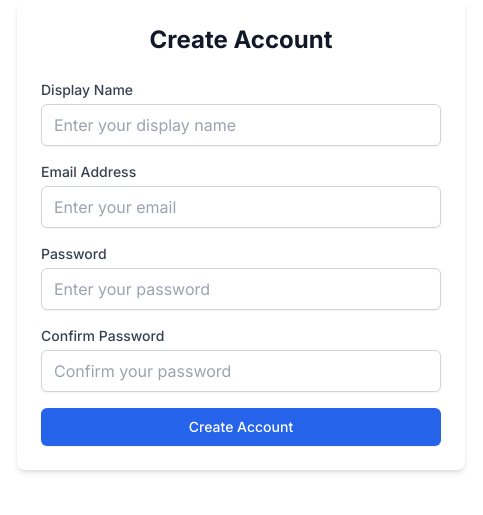
Test: RegisterForm › should validate password confirmation
Type "Test User" into the field labelled "Display Name". click: (241, 125)
box: [41, 104, 441, 146]
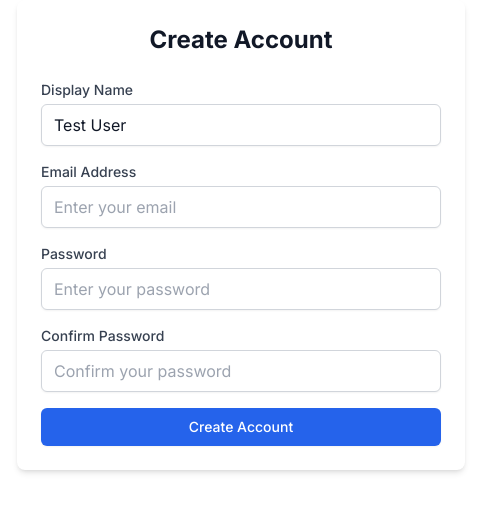
Type "test@example.com" into the field labelled "Email Address". click: (241, 207)
box: [41, 186, 441, 228]
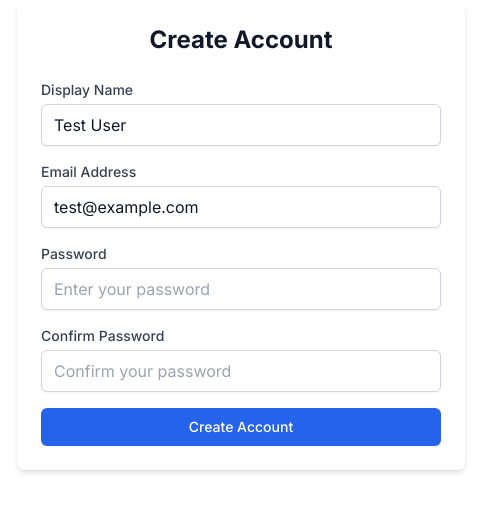
Type "password123" into the password field labelled "Password". click: (241, 289)
box: [41, 268, 441, 310]
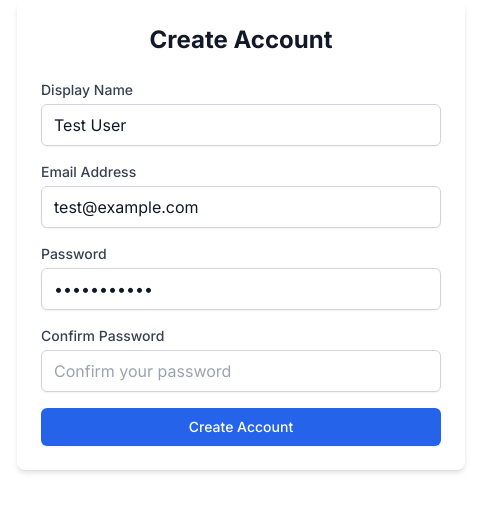
Type "differentpassword" into the password field labelled "Confirm Password". click: (241, 371)
box: [41, 350, 441, 392]
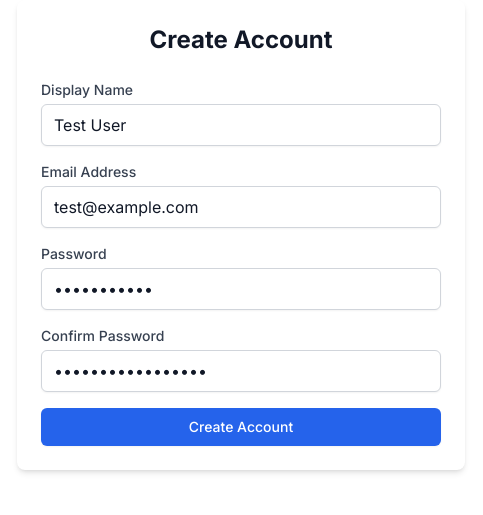
Click the button "Create Account". click: (241, 427)
box: [41, 408, 441, 446]
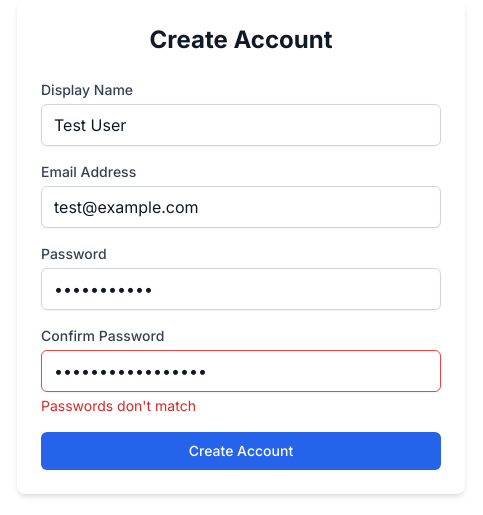
Expected: the text "Passwords don't match" is shown, [41, 397, 196, 414]
